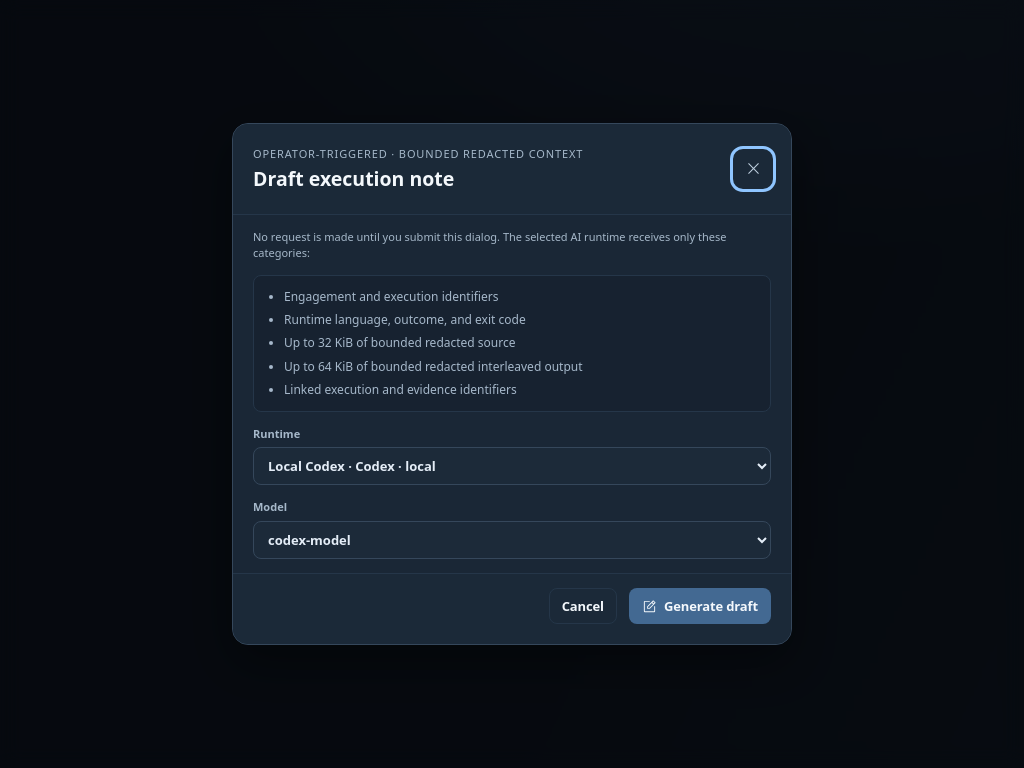
Test case: ExecutionInsightDialog › offers a Codex harness for structured execution drafts
Click the button "Generate draft": coordinates (700, 606) [629,588,771,624]
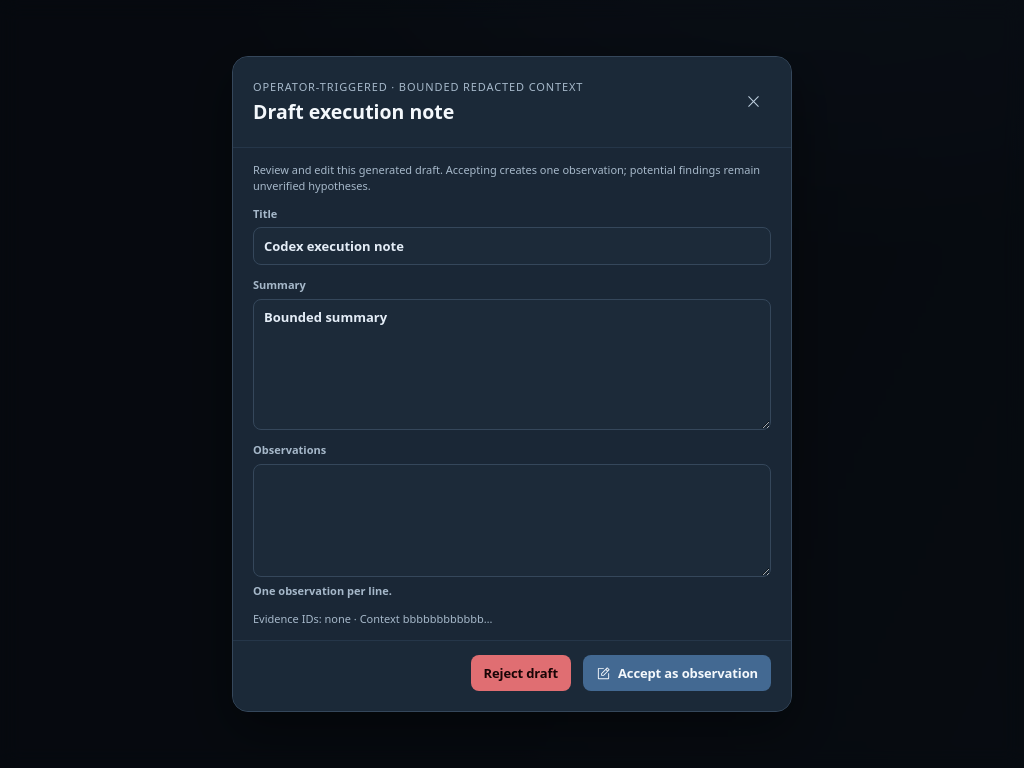
Now the text "Accepting creates one observation" is shown, box [253,162,760,192]
